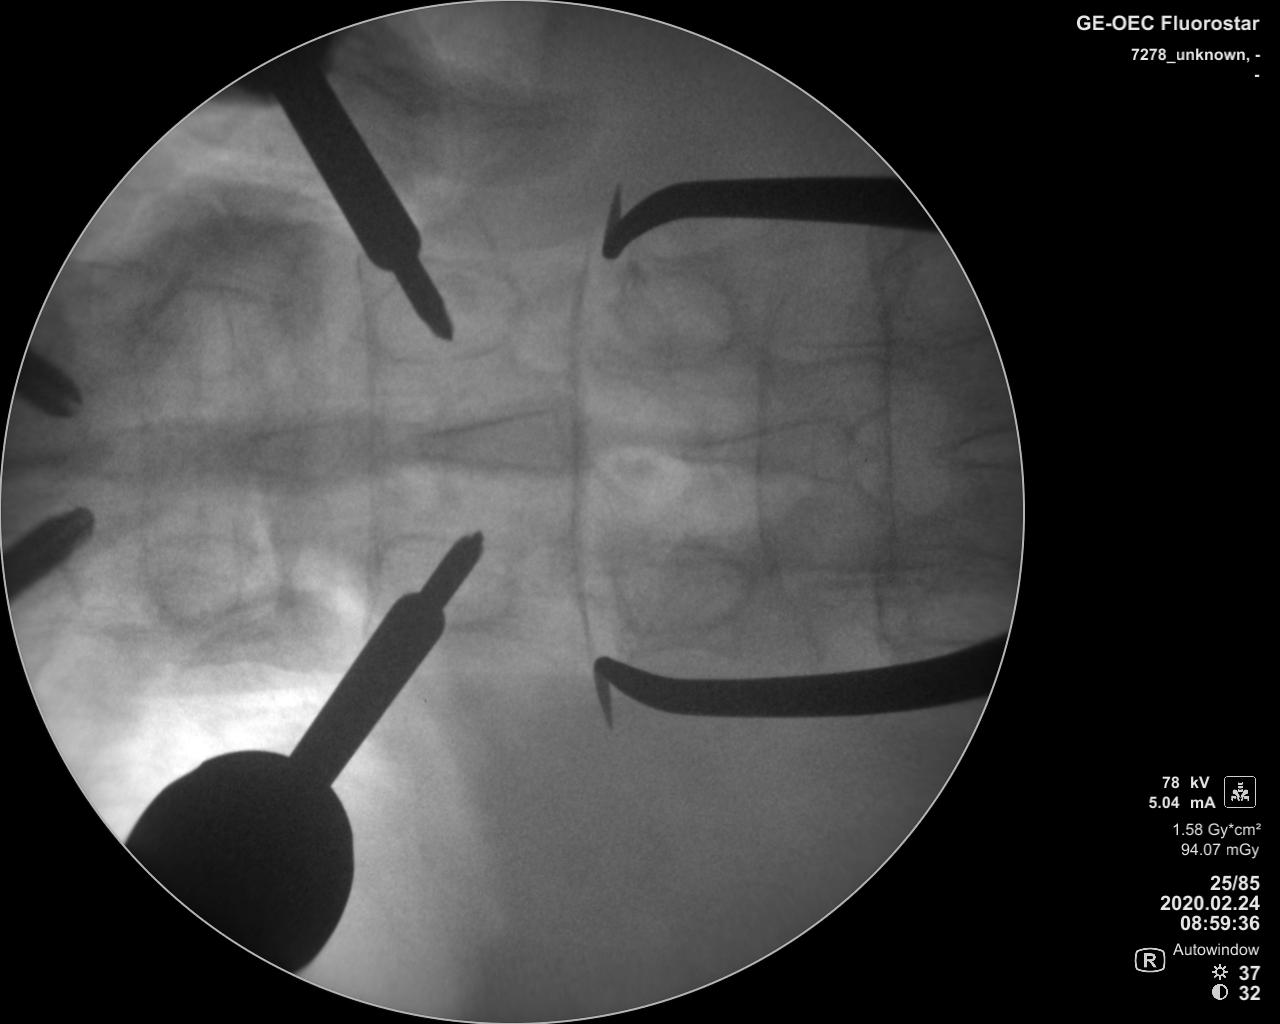eyes: (372, 261, 527, 367), (609, 261, 737, 369), (136, 284, 277, 381), (372, 528, 515, 623), (612, 536, 753, 631), (136, 531, 281, 623), (903, 550, 1013, 639)
line: (866, 257, 903, 606), (350, 261, 385, 624), (757, 248, 788, 612), (569, 241, 594, 649)
nose: (671, 413, 862, 486), (399, 403, 590, 474), (39, 423, 234, 489), (237, 413, 376, 483)
